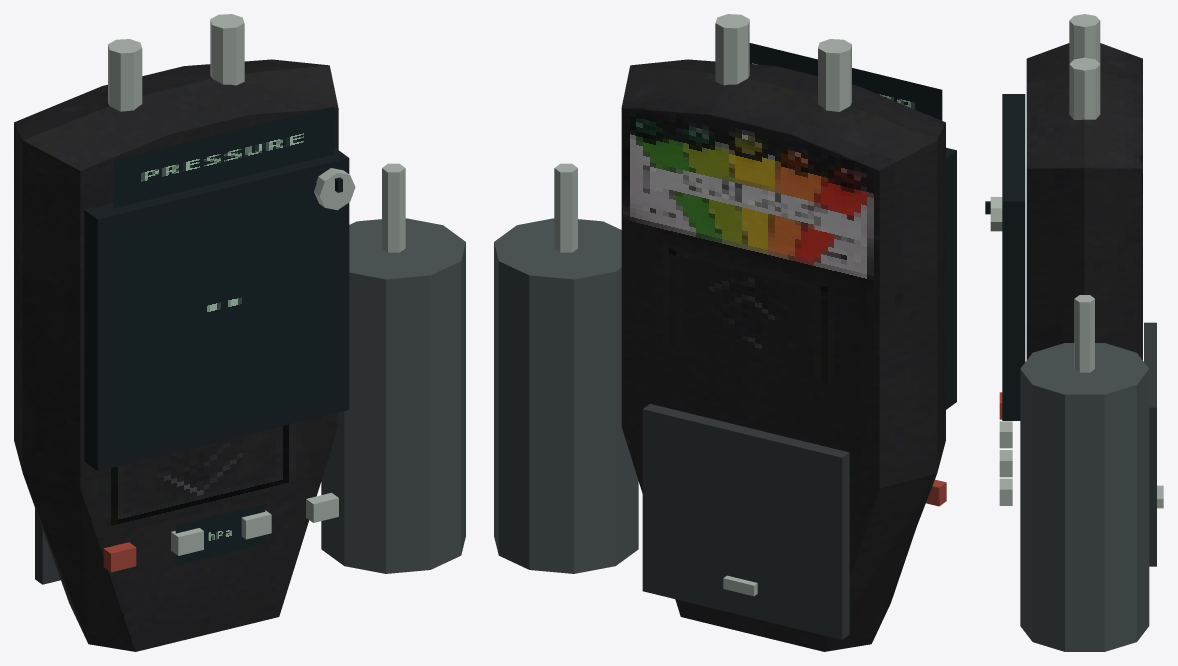
The model's file is blender_barometric_probe_3.glb.
3 views of the same model, side by side, from view 1: azimuth 30°, elevation 25°; view 2: azimuth 150°, elevation 25°; view 3: azimuth 270°, elevation 25° (orthographic). The views are drawn at different scales.
Visible parts, largest first — view 1: blender_barometric_probe_3; view 2: blender_barometric_probe_3; view 3: blender_barometric_probe_3.
Boxes of the visible parts, <box> form: blender_barometric_probe_3: <box>14,14,465,651</box>; blender_barometric_probe_3: <box>494,14,956,651</box>; blender_barometric_probe_3: <box>985,14,1163,651</box>.
Size of the model in its own units: 0.1688 by 0.22 by 0.069.
Materials: 1 (1 with a texture image).
